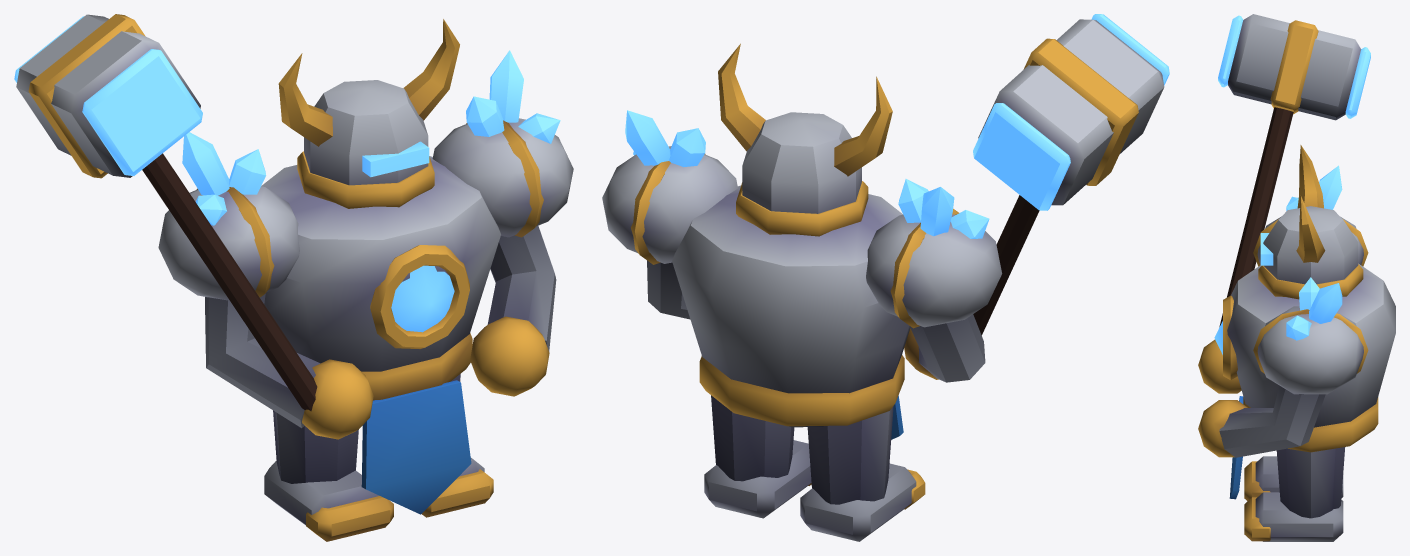
Rendered from minion_super.glb.
3 views of the same model, side by side, from view 1: azimuth 30°, elevation 25°; view 2: azimuth 150°, elevation 25°; view 3: azimuth 270°, elevation 25° (orthographic). The views are drawn at different scales.
Visible parts, largest first — view 1: torso, arm_r, head, arm_l, leg_r, leg_l; view 2: torso, arm_r, head, leg_r, leg_l, arm_l; view 3: torso, arm_r, head, leg_l, arm_l, leg_r.
Part boxes in pixels (x1,y1,x2,y2): torso: [158, 50, 573, 514]; arm_r: [14, 14, 373, 439]; head: [278, 19, 459, 208]; arm_l: [470, 226, 556, 396]; leg_r: [264, 410, 393, 541]; leg_l: [422, 374, 493, 517]; torso: [602, 110, 1002, 439]; arm_r: [904, 14, 1169, 382]; head: [718, 43, 892, 236]; leg_r: [800, 406, 925, 541]; leg_l: [704, 395, 811, 518]; arm_l: [647, 260, 690, 319]; torso: [1214, 165, 1395, 499]; arm_r: [1198, 14, 1370, 393]; head: [1258, 145, 1363, 299]; leg_l: [1244, 447, 1345, 541]; arm_l: [1198, 385, 1325, 457]; leg_r: [1244, 456, 1343, 501].
Bounding box in the file's own units: 1.82 × 1.79 × 0.7895.
